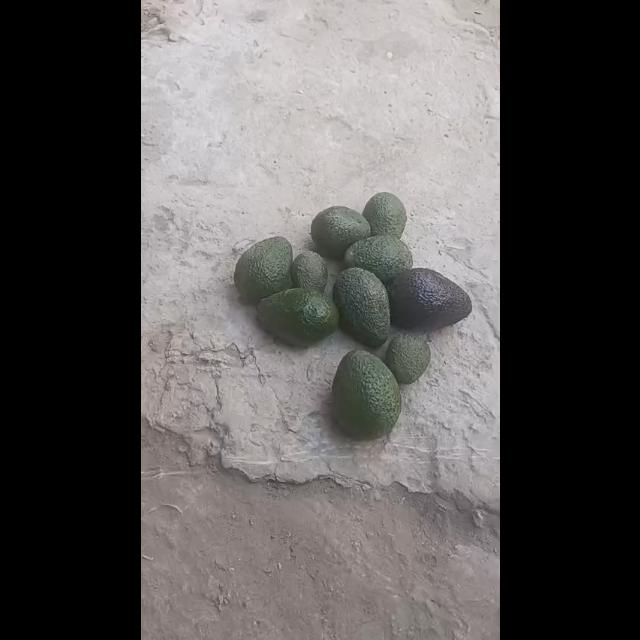Primera: (329, 349, 398, 437), (384, 266, 470, 332), (255, 286, 337, 348), (332, 266, 391, 346), (232, 236, 292, 304), (344, 236, 412, 286)
Segunda: (308, 205, 369, 259), (361, 192, 407, 238)
Tercera: (383, 332, 429, 383), (290, 250, 328, 292)
